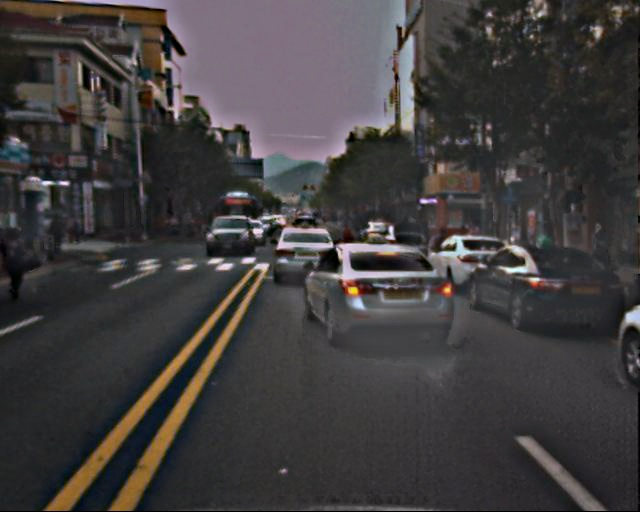person: (1, 231, 46, 297), (586, 220, 617, 295), (50, 212, 80, 250)
